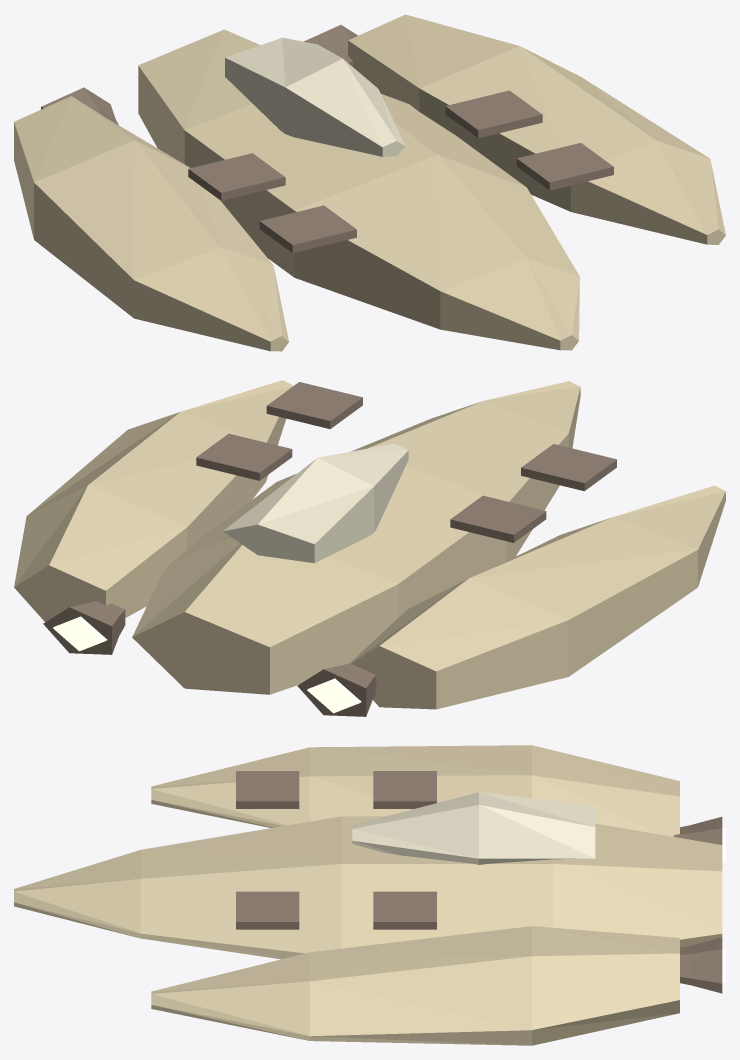
The picture shows the model from 3 angles, top to bottom: view 1: azimuth 30°, elevation 25°; view 2: azimuth 150°, elevation 25°; view 3: azimuth 270°, elevation 25°; orthographic projection. The views are drawn at different scales.
Size of the model in its own units: 7.39 by 1.94 by 8.22.
